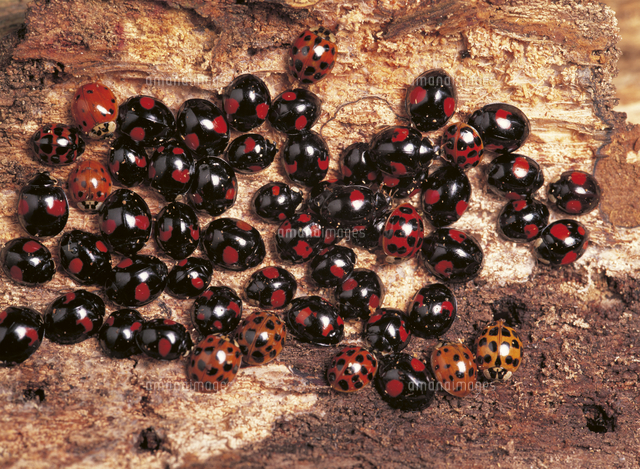red: (234, 308, 287, 366), (474, 319, 525, 379), (70, 80, 120, 140), (286, 27, 338, 84), (381, 202, 424, 263), (27, 121, 85, 165), (67, 159, 112, 211), (328, 347, 379, 391), (443, 120, 482, 171)
two_spots: (200, 216, 265, 272), (369, 125, 436, 179), (42, 289, 106, 345), (98, 188, 153, 252), (420, 228, 482, 283), (106, 252, 166, 308), (176, 97, 230, 159), (17, 170, 65, 238), (404, 283, 458, 339), (281, 130, 332, 188), (222, 73, 270, 134), (117, 95, 174, 146), (421, 166, 471, 224), (0, 303, 43, 370), (407, 70, 456, 128), (485, 152, 542, 201), (135, 317, 194, 363), (544, 169, 604, 214), (153, 201, 200, 257), (273, 87, 322, 136), (59, 233, 106, 284), (305, 242, 355, 287), (496, 198, 550, 239), (252, 181, 306, 222), (227, 131, 277, 174), (247, 265, 295, 308)
two_spots_mutant: (540, 219, 591, 267), (148, 140, 193, 194)
